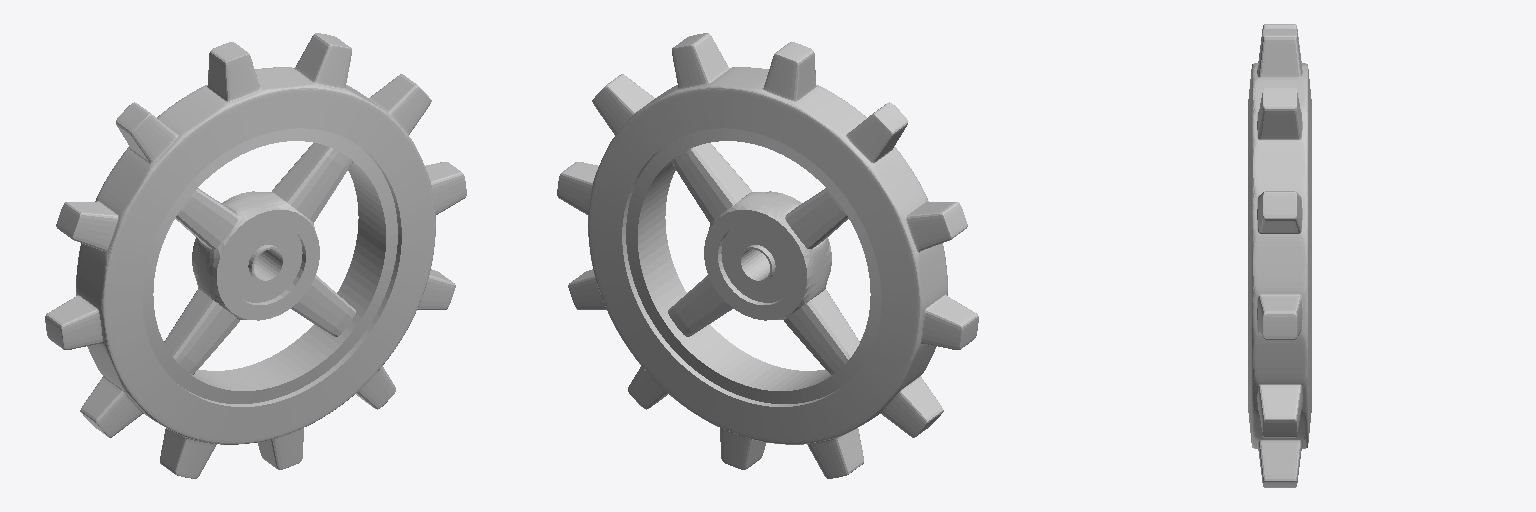
Rendered from gear1.obj.
3 renders of one model, left to right at view 1: azimuth 30°, elevation 25°; view 2: azimuth 150°, elevation 25°; view 3: azimuth 270°, elevation 25°, orthographic.
Parts seen in each view (by area): view 1: Cylinder.013_Cylinder.028; view 2: Cylinder.013_Cylinder.028; view 3: Cylinder.013_Cylinder.028.
Boxes of the visible parts, box(x1,y1,x2,y2) form: Cylinder.013_Cylinder.028: box(45, 33, 466, 478); Cylinder.013_Cylinder.028: box(557, 33, 978, 478); Cylinder.013_Cylinder.028: box(1248, 24, 1311, 487).
Bounding box in the file's own units: 2.55 × 2.55 × 0.3504.